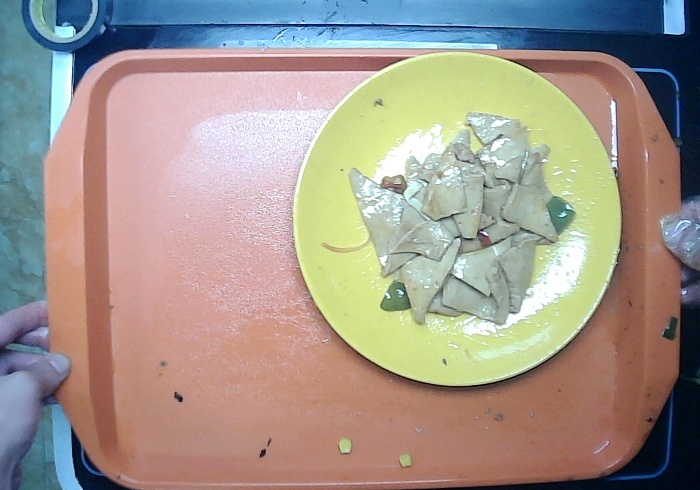HZYJPL-Huang_Se_Yuan_Pan: (287, 48, 627, 386)
